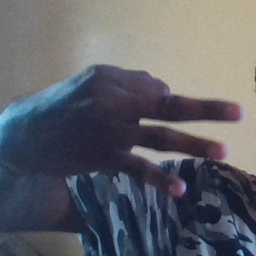K: (14, 61, 245, 198)
